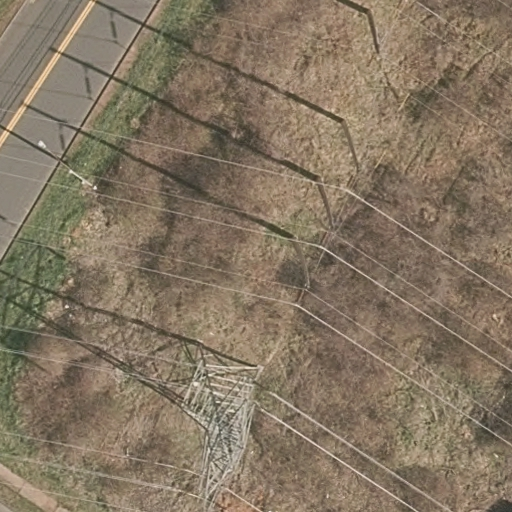DT: (330, 113, 376, 184), (306, 170, 347, 248), (282, 225, 320, 298), (354, 2, 386, 60)
TT: (165, 333, 274, 508)
